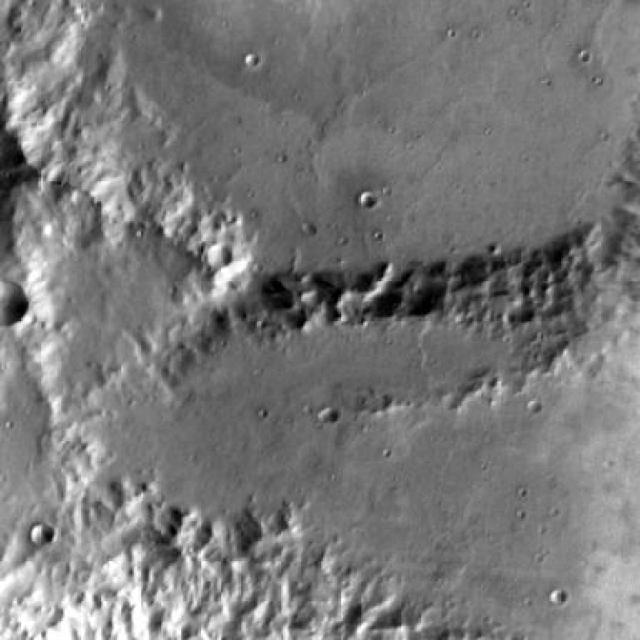crater: (31, 523, 54, 546), (318, 407, 338, 425), (358, 189, 376, 205), (550, 588, 568, 603)
